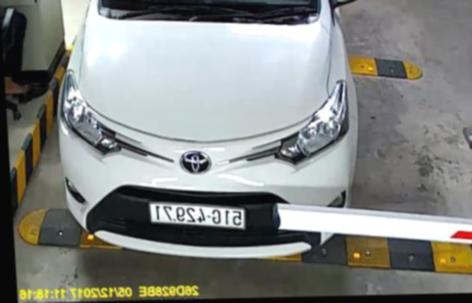License_Plate: (143, 197, 251, 232)
